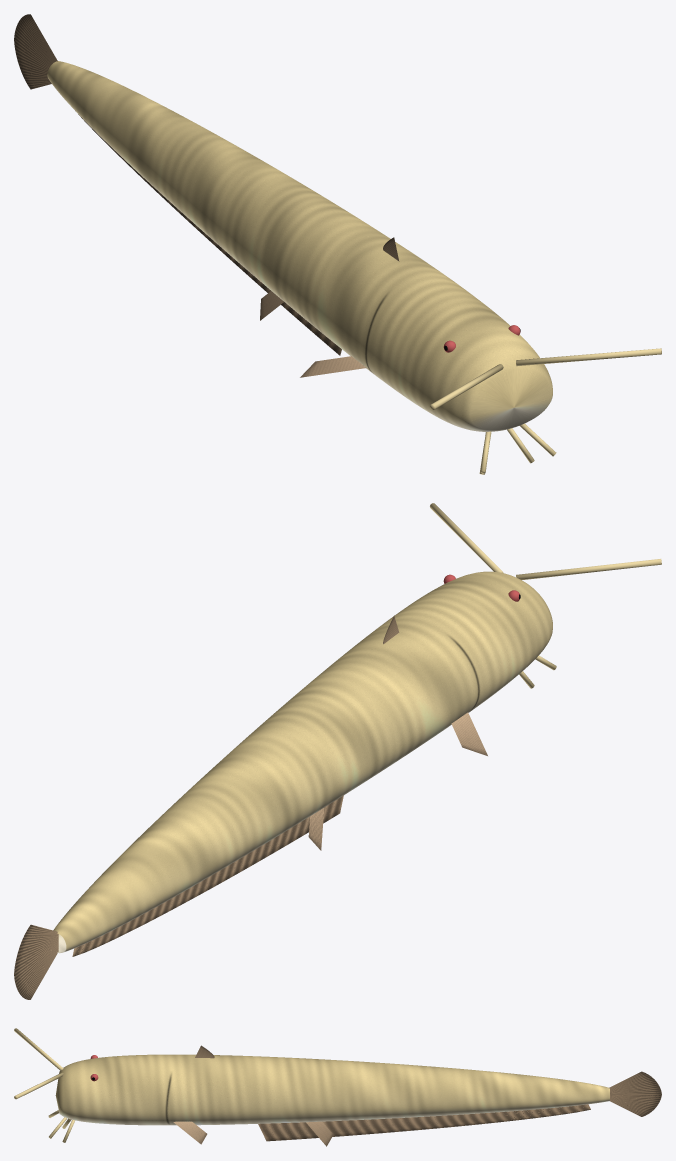
The model's file is som_trophy.obj.
3 views of the same model, one above another, from view 1: azimuth 30°, elevation 25°; view 2: azimuth 150°, elevation 25°; view 3: azimuth 270°, elevation 25° (orthographic). The views are drawn at different scales.
Visible parts, largest first — view 1: body, fin_tail, fin_anal0, barbel0, fin_pect_R; view 2: body, fin_anal0, fin_tail, barbel1, fin_pect_R; view 3: body, fin_anal0, fin_tail, fin_pect_L, fin_pelv_L, barbel1, barbel0.
Part boxes in pixels (x1=…): body: x1=47, y1=61, x2=552, y2=431; fin_tail: x1=14, y1=14, x2=57, y2=89; fin_anal0: x1=78, y1=114, x2=341, y2=355; barbel0: x1=516, y1=348, x2=661, y2=366; fin_pect_R: x1=300, y1=356, x2=366, y2=377; body: x1=53, y1=571, x2=552, y2=953; fin_anal0: x1=72, y1=795, x2=343, y2=956; fin_tail: x1=14, y1=924, x2=58, y2=999; barbel1: x1=516, y1=559, x2=661, y2=579; fin_pect_R: x1=451, y1=712, x2=487, y2=755; body: x1=55, y1=1054, x2=609, y2=1125; fin_anal0: x1=258, y1=1104, x2=590, y2=1141; fin_tail: x1=609, y1=1071, x2=661, y2=1116; fin_pect_L: x1=173, y1=1121, x2=207, y2=1144; fin_pelv_L: x1=306, y1=1121, x2=333, y2=1146; barbel1: x1=14, y1=1028, x2=63, y2=1070; barbel0: x1=14, y1=1072, x2=63, y2=1099.
Size of the model in its own units: 0.5012 by 0.3271 by 2.
Materials: 6 (3 with a texture image).
